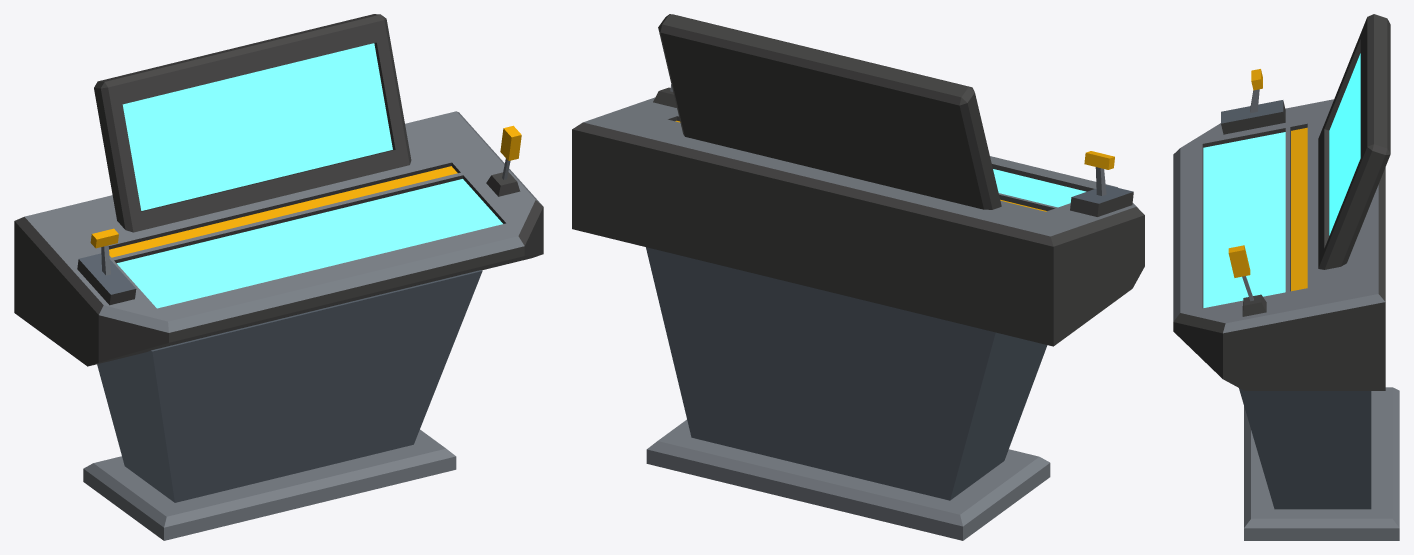
The model's file is free_console_helm.glb.
The picture shows the model from 3 angles, left to right: view 1: azimuth 30°, elevation 25°; view 2: azimuth 150°, elevation 25°; view 3: azimuth 270°, elevation 25°; orthographic projection. The views are drawn at different scales.
Parts seen in each view (by area): view 1: free_console_helm; view 2: free_console_helm; view 3: free_console_helm.
Boxes of the visible parts, bbox=[...] form: free_console_helm: bbox=[14, 14, 543, 540]; free_console_helm: bbox=[572, 14, 1144, 540]; free_console_helm: bbox=[1173, 14, 1399, 540].
Bounding box in the file's own units: 1.4 × 1.23 × 0.64.
